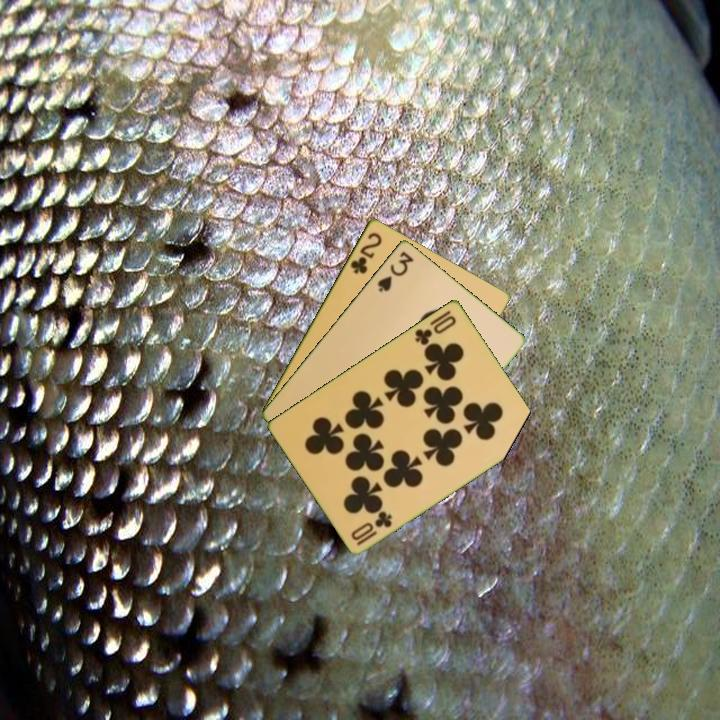10c: (347, 507, 395, 548), (411, 311, 459, 348)
2c: (347, 228, 385, 277)
3s: (374, 247, 417, 295)
